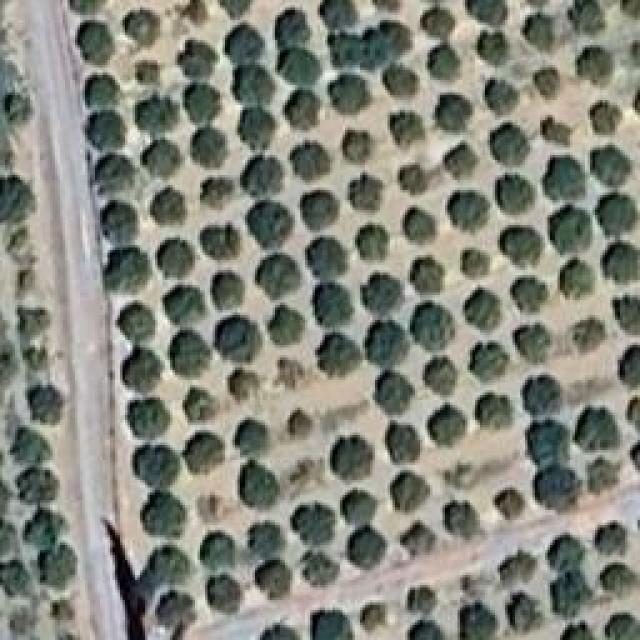Tree: (328, 23, 411, 72), (523, 418, 574, 469), (248, 200, 298, 248), (410, 302, 454, 352), (215, 315, 261, 362), (255, 255, 301, 300), (550, 205, 593, 253), (155, 590, 196, 640), (575, 407, 620, 452), (368, 320, 411, 367), (105, 248, 148, 294), (140, 494, 184, 538), (135, 445, 180, 488), (318, 333, 363, 376), (150, 543, 193, 588), (548, 578, 595, 619), (170, 330, 211, 377), (240, 460, 280, 508), (595, 193, 638, 236), (135, 95, 179, 137), (333, 435, 374, 480), (308, 237, 349, 282), (123, 348, 163, 394), (535, 470, 581, 510), (38, 543, 78, 589), (293, 503, 336, 545), (375, 370, 415, 415), (545, 158, 586, 201), (500, 228, 543, 269), (315, 282, 354, 327), (183, 433, 224, 475), (363, 273, 404, 315), (25, 508, 66, 550), (490, 123, 530, 166), (240, 158, 283, 198), (235, 65, 276, 106), (225, 23, 265, 65), (348, 525, 387, 568), (205, 572, 244, 615), (163, 285, 204, 325), (290, 142, 331, 182), (330, 75, 371, 115), (523, 375, 563, 416), (95, 155, 136, 195), (428, 405, 467, 447), (593, 145, 632, 187), (237, 108, 275, 151), (103, 200, 139, 245), (390, 474, 430, 514), (10, 428, 51, 467), (0, 175, 34, 222), (267, 305, 305, 347), (88, 110, 127, 150), (300, 190, 339, 230), (450, 192, 489, 232), (602, 243, 640, 284), (78, 23, 114, 66), (465, 288, 501, 331), (18, 468, 61, 504), (278, 50, 322, 85), (143, 140, 183, 178), (117, 304, 155, 344), (178, 40, 218, 78), (497, 175, 535, 215), (470, 343, 510, 381), (512, 324, 550, 364), (27, 385, 65, 425), (547, 535, 585, 574), (133, 398, 170, 438), (185, 83, 221, 124), (285, 90, 321, 131), (385, 423, 420, 465), (460, 603, 499, 640), (200, 225, 240, 261), (255, 560, 291, 600), (275, 10, 310, 51), (508, 593, 543, 634), (300, 550, 339, 586), (193, 127, 228, 167), (423, 357, 458, 397), (560, 260, 595, 300), (200, 533, 236, 571), (438, 95, 474, 133), (445, 502, 481, 540), (158, 240, 193, 279), (310, 610, 355, 640), (150, 188, 186, 225), (343, 490, 379, 527), (248, 523, 284, 560), (475, 395, 513, 430), (578, 48, 613, 86), (13, 300, 48, 338), (213, 273, 247, 311), (600, 563, 639, 596), (183, 388, 218, 424), (235, 420, 270, 456), (355, 225, 389, 262), (350, 175, 384, 212), (567, 0, 605, 33), (400, 523, 435, 558), (485, 80, 519, 116), (428, 43, 461, 80), (85, 75, 119, 110), (573, 317, 607, 352), (393, 113, 426, 149), (510, 280, 546, 313), (588, 458, 621, 494), (445, 144, 479, 178), (595, 523, 629, 557), (0, 90, 34, 124), (420, 8, 455, 41), (410, 260, 443, 295), (0, 560, 30, 598), (125, 13, 159, 46), (405, 208, 436, 244), (228, 370, 261, 403), (322, 0, 357, 31), (468, 0, 509, 26), (385, 65, 418, 97), (495, 488, 526, 521), (525, 15, 554, 50), (500, 553, 536, 581), (590, 103, 621, 135), (480, 33, 510, 66), (345, 130, 373, 163), (605, 613, 639, 640), (398, 166, 428, 196), (200, 180, 233, 207), (615, 300, 640, 335), (620, 345, 640, 388), (463, 250, 492, 278), (535, 68, 561, 99), (278, 358, 304, 389), (408, 588, 437, 615), (260, 622, 303, 640), (545, 120, 573, 147), (68, 0, 111, 17), (363, 605, 388, 634), (288, 410, 313, 438), (180, 0, 208, 24), (560, 622, 595, 640), (413, 620, 444, 640), (220, 0, 252, 18), (200, 498, 222, 524), (627, 397, 640, 432), (138, 64, 158, 84), (630, 443, 640, 471)
